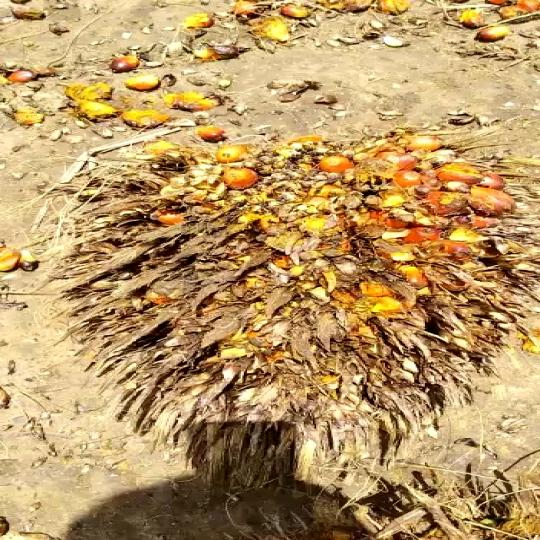terlalu masak: (53, 121, 540, 465)
